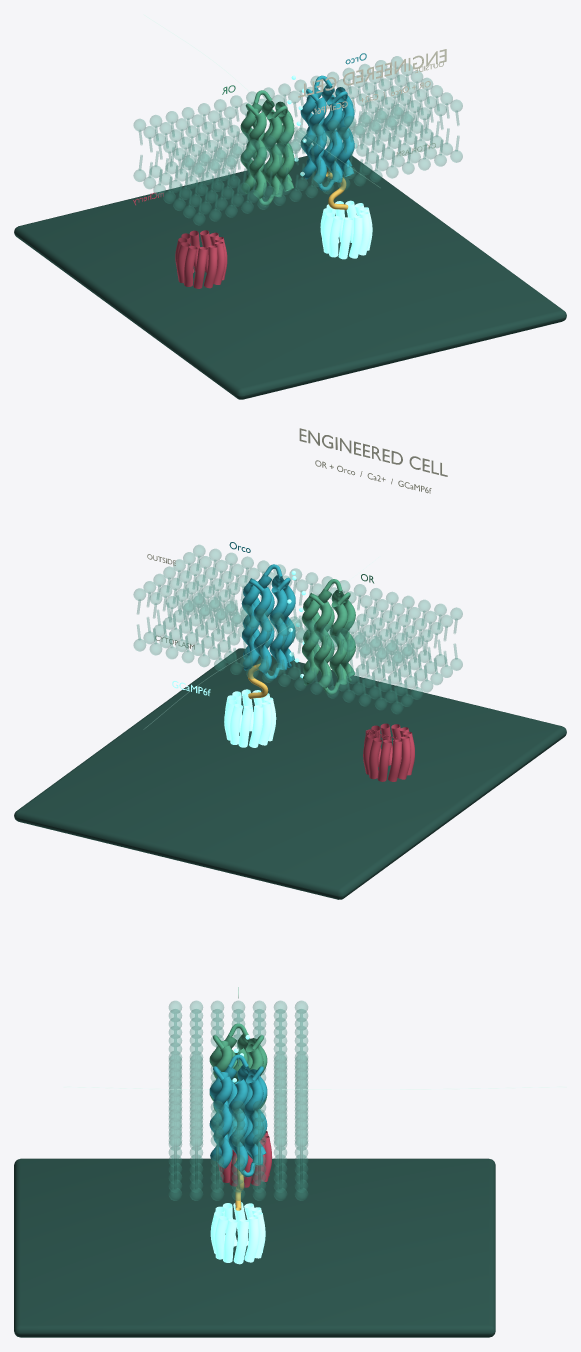
The model's file is aerosense_03_cell_v4.glb.
3 renders of one model, top to bottom at view 1: azimuth 30°, elevation 25°; view 2: azimuth 150°, elevation 25°; view 3: azimuth 270°, elevation 25°, orthographic. The views are drawn at different scales.
Visible parts, largest first — view 1: Cell_exhibit_base, membrane_surface, or_surface, orco_surface, mcherry_surface, gcamp_surface, Cell_heading; view 2: Cell_exhibit_base, membrane_surface, or_surface, orco_surface, mcherry_surface, gcamp_surface, Cell_heading; view 3: Cell_exhibit_base, membrane_surface, orco_surface, gcamp_surface, or_surface, mcherry_surface.
Boxes of the visible parts, x1=… form: Cell_exhibit_base: x1=14, y1=155, x2=566, y2=399; membrane_surface: x1=133, y1=56, x2=462, y2=225; or_surface: x1=240, y1=90, x2=294, y2=205; orco_surface: x1=300, y1=75, x2=354, y2=191; mcherry_surface: x1=175, y1=230, x2=227, y2=288; gcamp_surface: x1=320, y1=200, x2=372, y2=259; Cell_heading: x1=298, y1=49, x2=446, y2=97; Cell_exhibit_base: x1=14, y1=648, x2=566, y2=899; membrane_surface: x1=133, y1=545, x2=462, y2=713; or_surface: x1=301, y1=579, x2=355, y2=694; orco_surface: x1=241, y1=564, x2=295, y2=680; mcherry_surface: x1=363, y1=723, x2=414, y2=781; gcamp_surface: x1=224, y1=689, x2=276, y2=747; Cell_heading: x1=299, y1=428, x2=447, y2=476; Cell_exhibit_base: x1=14, y1=1158, x2=495, y2=1337; membrane_surface: x1=169, y1=1000, x2=307, y2=1200; orco_surface: x1=209, y1=1054, x2=267, y2=1177; gcamp_surface: x1=210, y1=1202, x2=265, y2=1264; or_surface: x1=209, y1=1023, x2=267, y2=1133; mcherry_surface: x1=218, y1=1131, x2=272, y2=1187.
Bounding box in the file's own units: 7.4 × 5.85 × 10.1.
